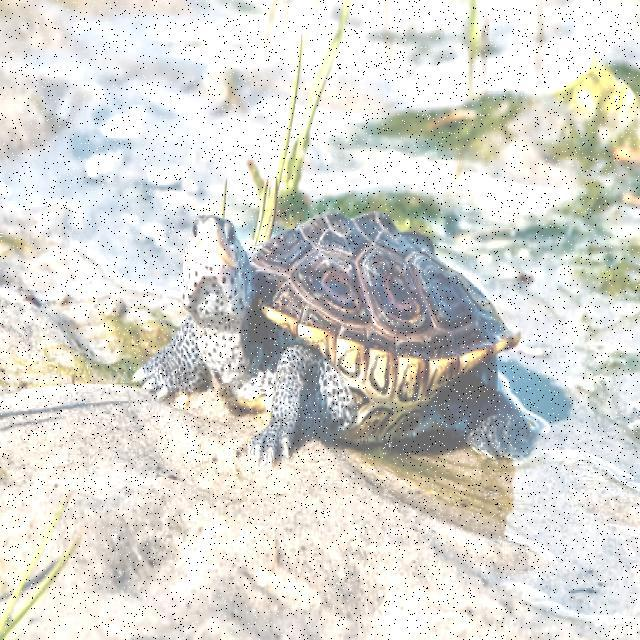tortoise: (142, 196, 540, 474)
